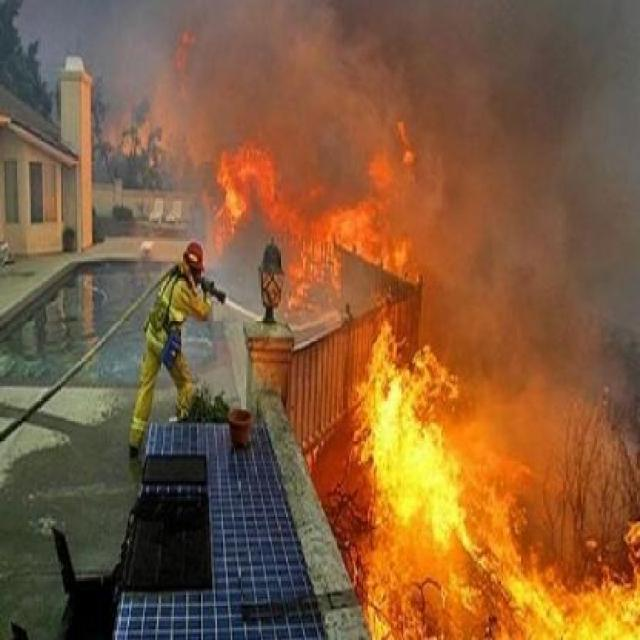Fire: (340, 316, 640, 632), (220, 106, 416, 282)
Smoke: (383, 10, 640, 265)
